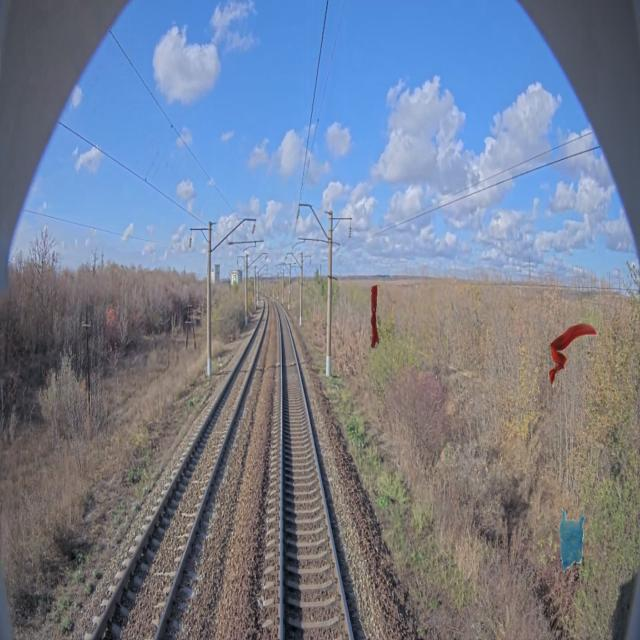floating object: (549, 323, 598, 387), (371, 284, 379, 348)
plastic bag: (559, 508, 585, 572)
